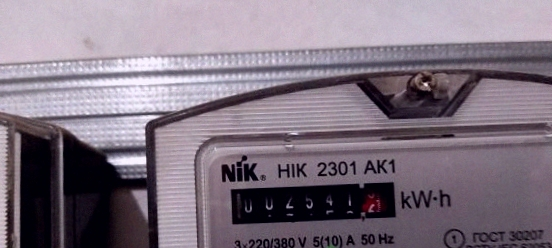0: (240, 193, 254, 214), (261, 190, 274, 211)
1: (342, 185, 354, 208)
2: (281, 188, 296, 211)
4: (322, 186, 334, 207)
5: (301, 187, 315, 211)
6: (364, 200, 376, 213)
screen: (217, 171, 407, 232)
